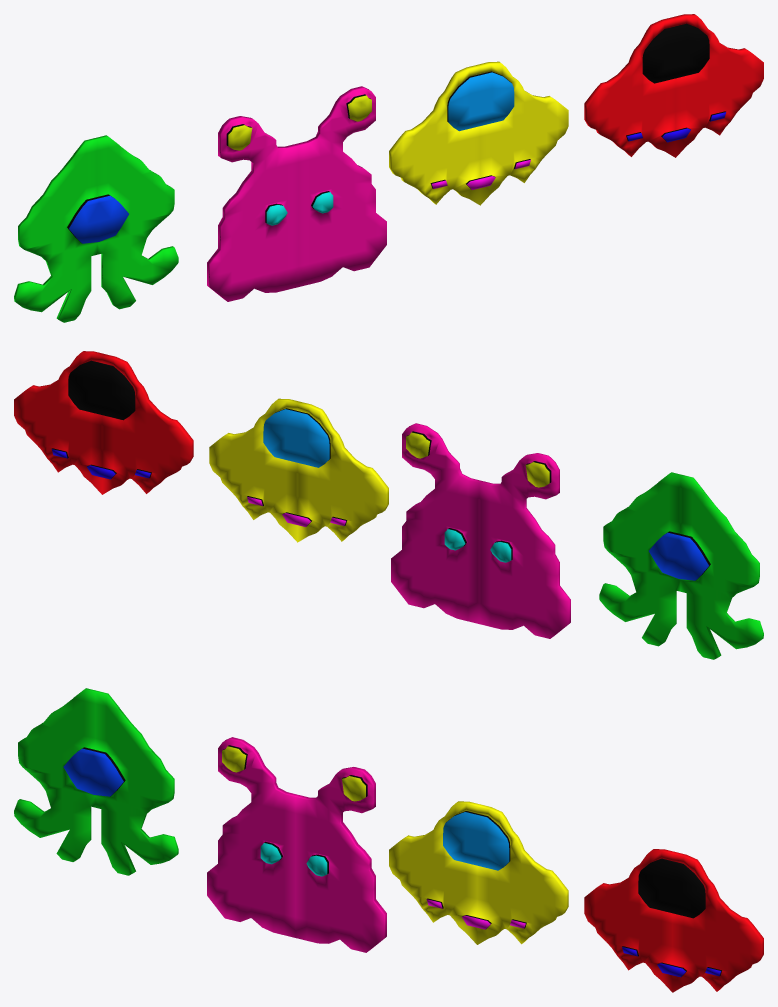
The model's file is AlienTargets.fbx.
The picture shows the model from 3 angles, top to bottom: view 1: azimuth 30°, elevation 25°; view 2: azimuth 150°, elevation 25°; view 3: azimuth 330°, elevation 25°; orthographic projection.
Visible parts, largest first — view 1: Blob, Squid, UFO, UFO Special; view 2: Blob, Squid, UFO, UFO Special; view 3: Blob, Squid, UFO Special, UFO.
Part boxes in pixels (x1=…): Blob: x1=207, y1=86, x2=386, y2=301; Squid: x1=14, y1=135, x2=178, y2=322; UFO: x1=389, y1=61, x2=568, y2=205; UFO Special: x1=584, y1=14, x2=763, y2=157; Blob: x1=391, y1=423, x2=570, y2=638; Squid: x1=599, y1=472, x2=763, y2=659; UFO: x1=209, y1=398, x2=388, y2=542; UFO Special: x1=14, y1=351, x2=193, y2=494; Blob: x1=207, y1=737, x2=386, y2=952; Squid: x1=14, y1=688, x2=178, y2=875; UFO Special: x1=584, y1=849, x2=763, y2=992; UFO: x1=389, y1=801, x2=568, y2=944.
Bounding box in the file's own units: 847 × 213 × 12.
